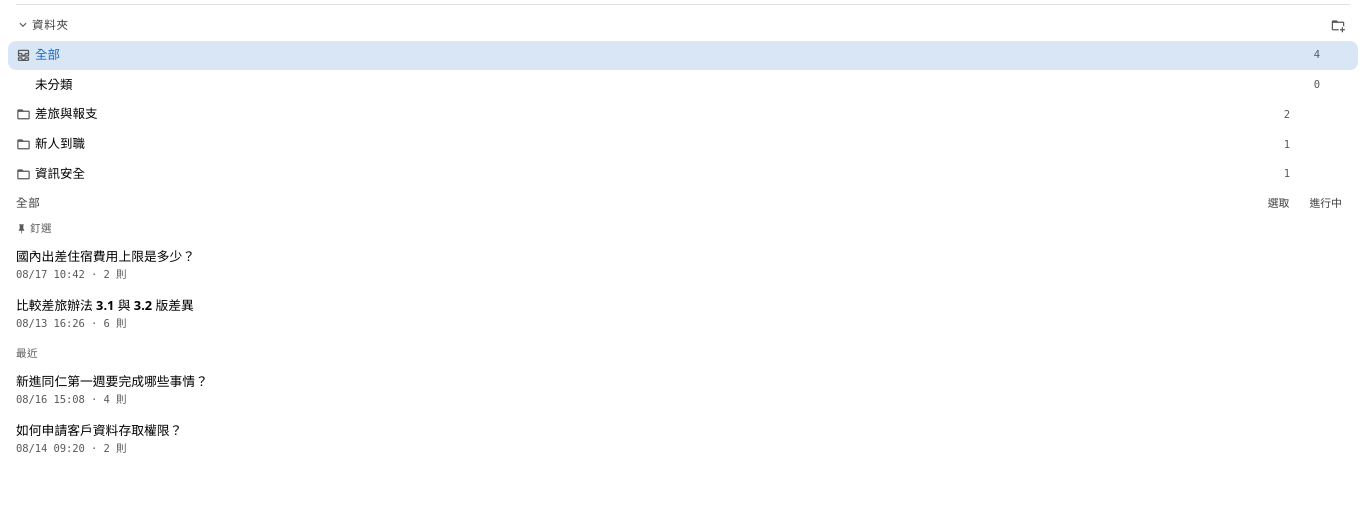
ConversationHistoryPanel › should batch move the checked conversations into a folder
Click the button with test id "history-select-toggle" at (1278, 203), box [1260,193,1297,213]
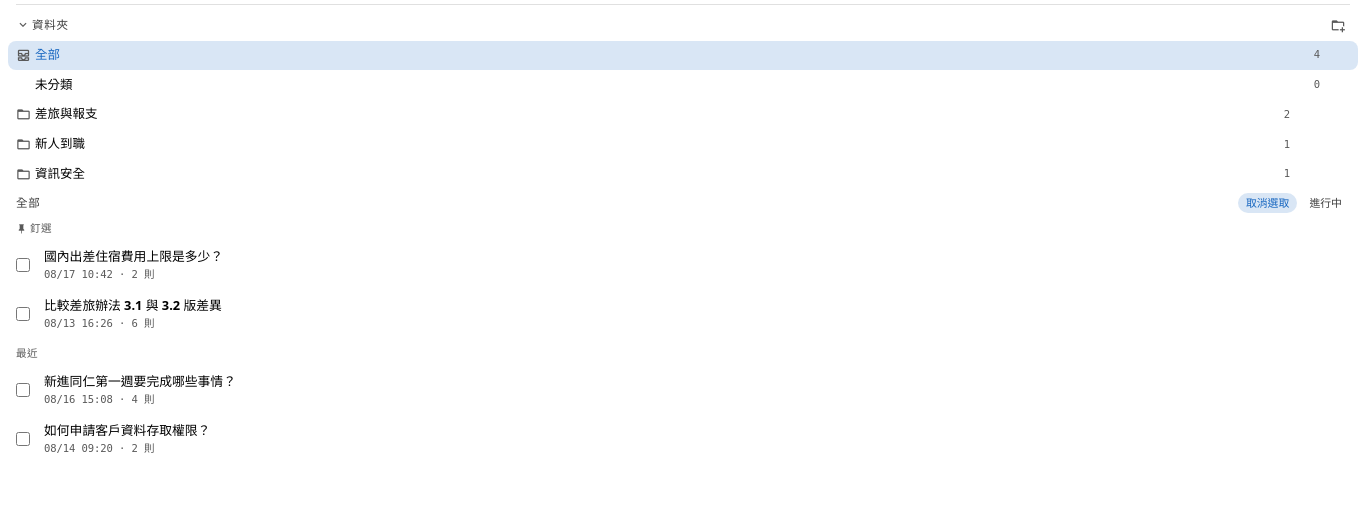
Click the checkbox named "選取 新進同仁第一週要完成哪些事情？" at (23, 390), box [16,383,30,397]
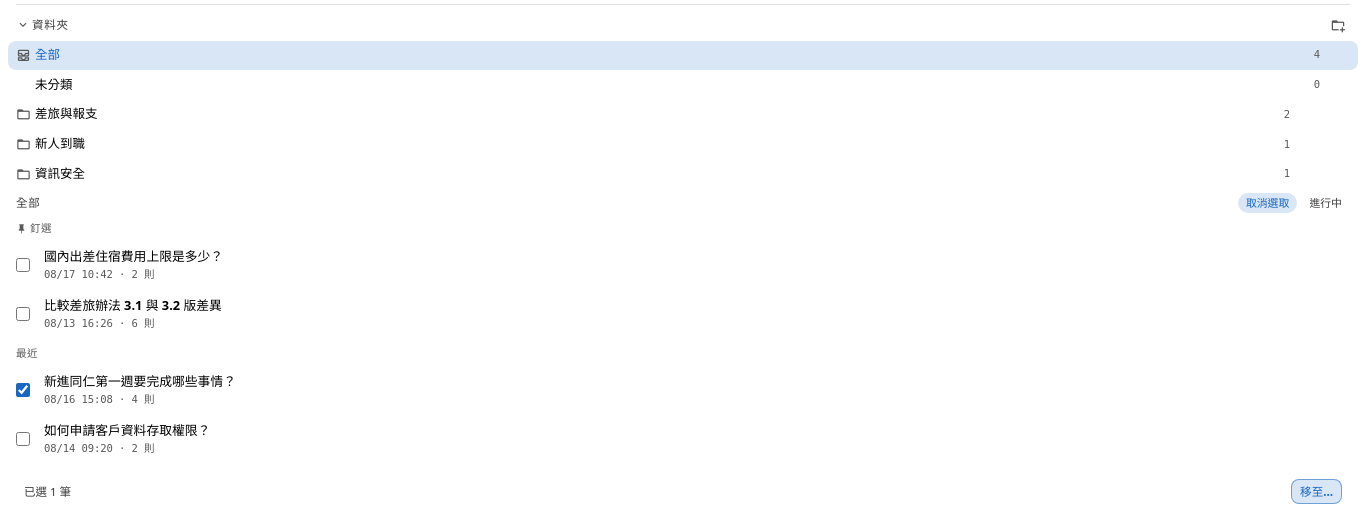
Expected: the text with class "batch-count" reads "已選 1 筆", [24,484,71,499]
